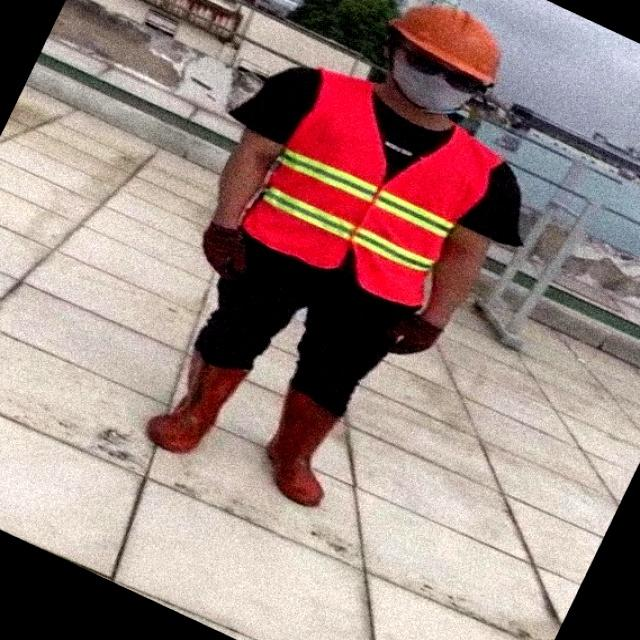helmet: (390, 18, 530, 88)
safety_vest: (242, 60, 520, 328)
